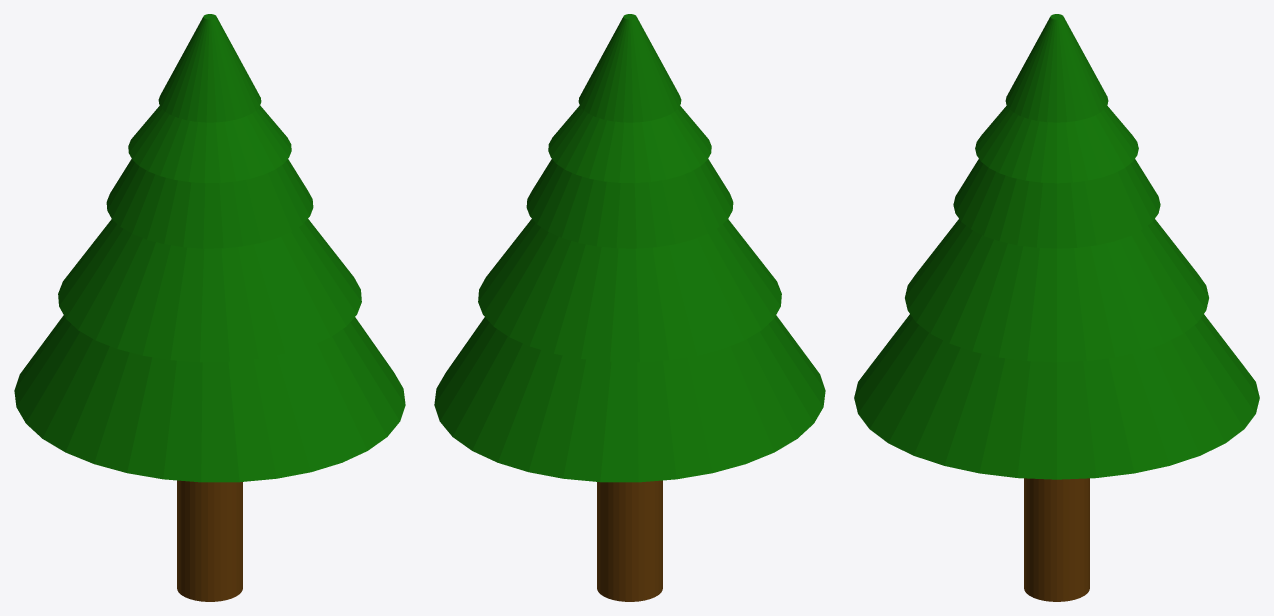
Rendered from Conifera.fbx.
3 renders of one model, left to right at view 1: azimuth 30°, elevation 25°; view 2: azimuth 150°, elevation 25°; view 3: azimuth 270°, elevation 25°, orthographic.
Visible parts, largest first — view 1: Cilindro; view 2: Cilindro; view 3: Cilindro.
Boxes of the visible parts, box(x1,y1,x2,y2) form: Cilindro: box(14, 14, 405, 601); Cilindro: box(434, 14, 825, 601); Cilindro: box(854, 14, 1259, 601).
Size of the model in its own units: 1170 by 1907 by 1228.
